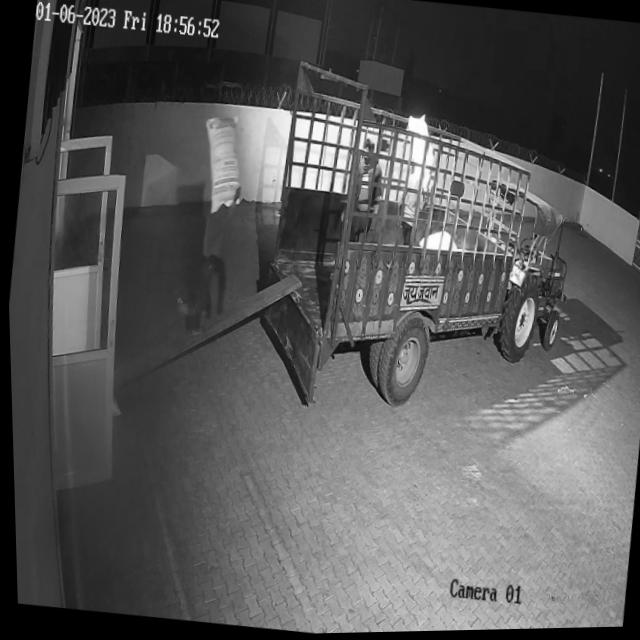sack: (193, 115, 244, 216)
